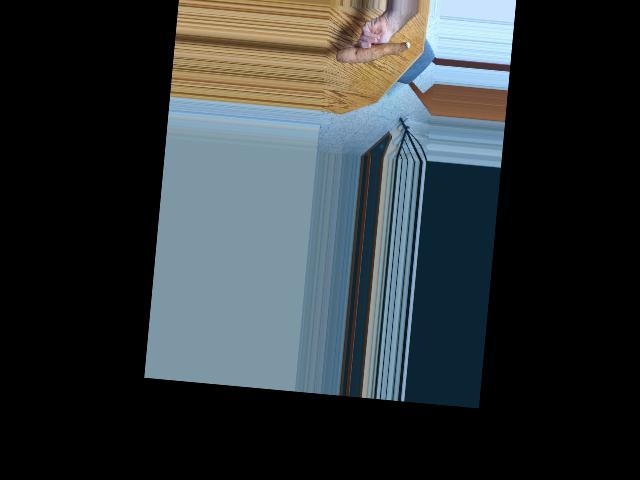sweet_potato: (337, 32, 411, 71)
